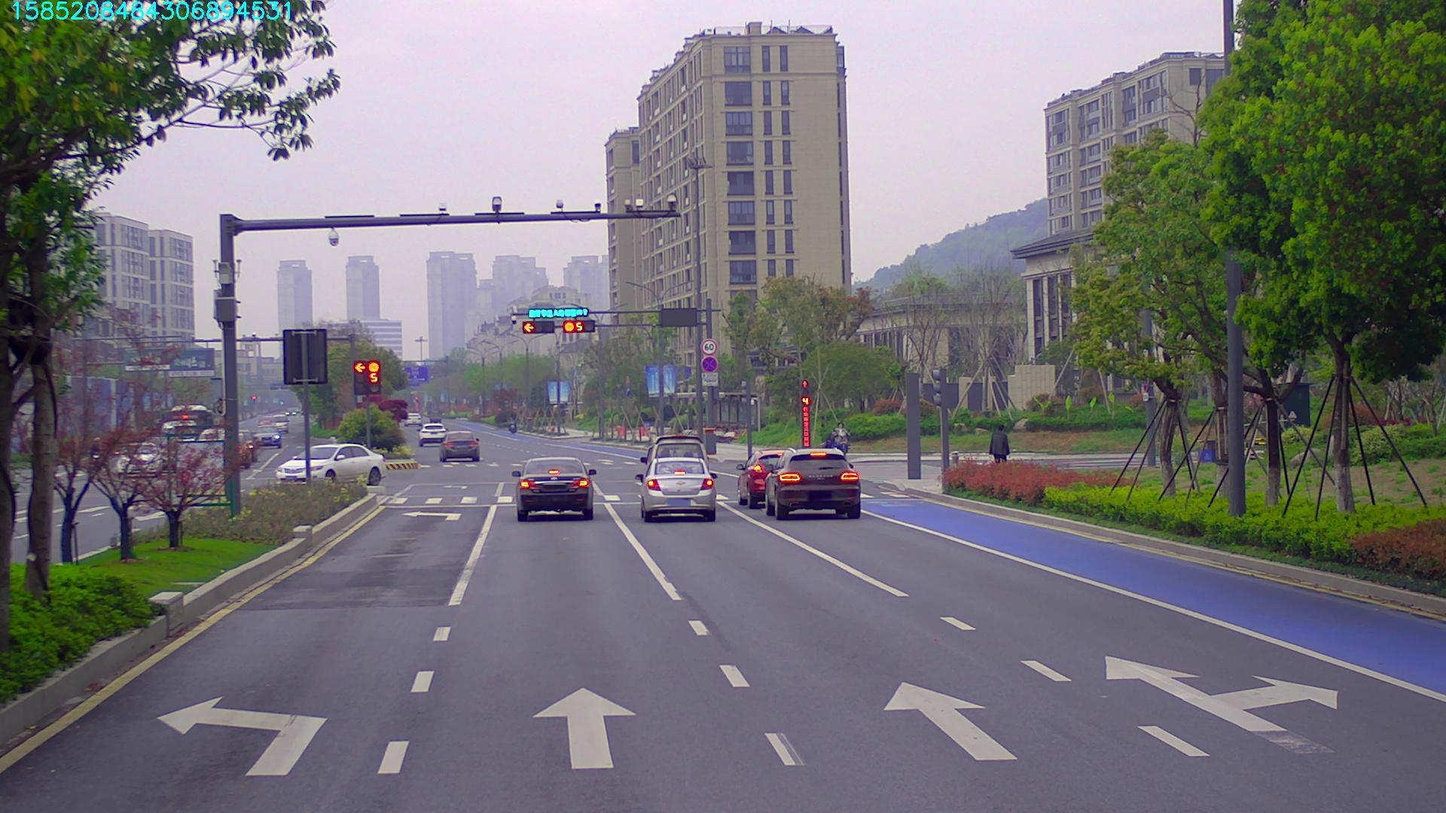red: (561, 318, 590, 335), (521, 319, 547, 327)
wait_on: (529, 306, 587, 317)
